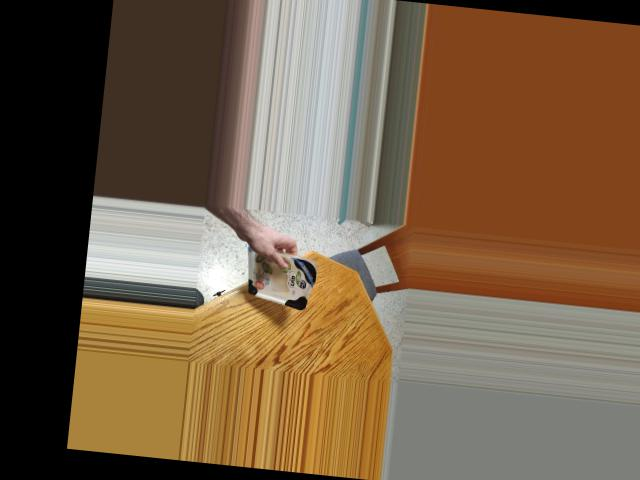cheese: (234, 247, 322, 305)
